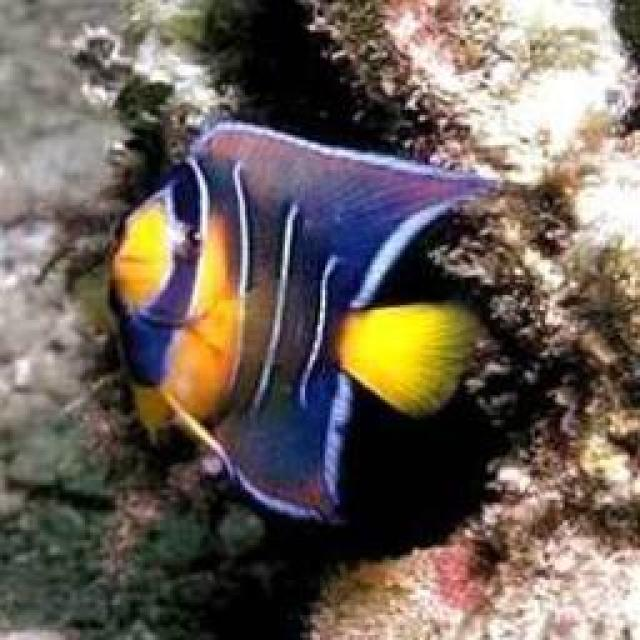fish: (64, 122, 504, 524)
